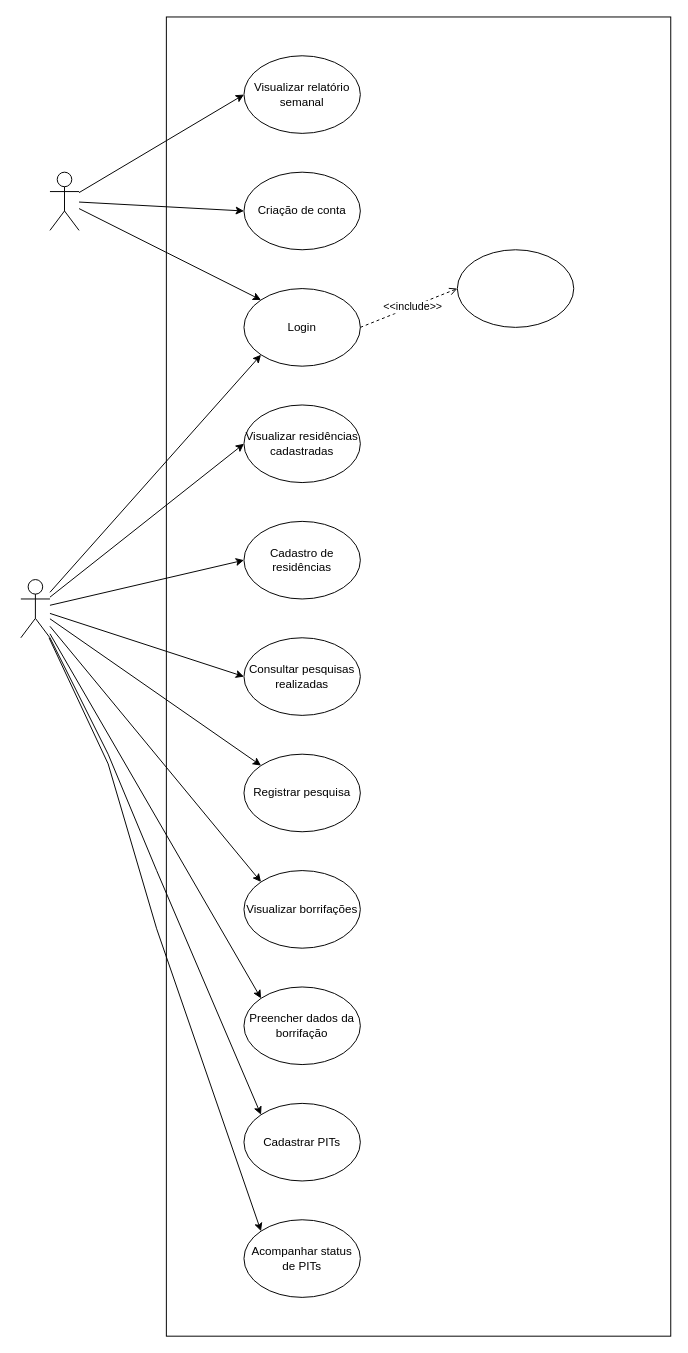
Some shapes in this 688 by 1353 pixel diagram are drawn without their labels. The centre of each missing label's shape, as x and y in pixels:
"Agente" belongs at (35,608).
"Agente-chefe" belongs at (64,200).
"Validação de perfil de acesso" belongs at (515,288).
